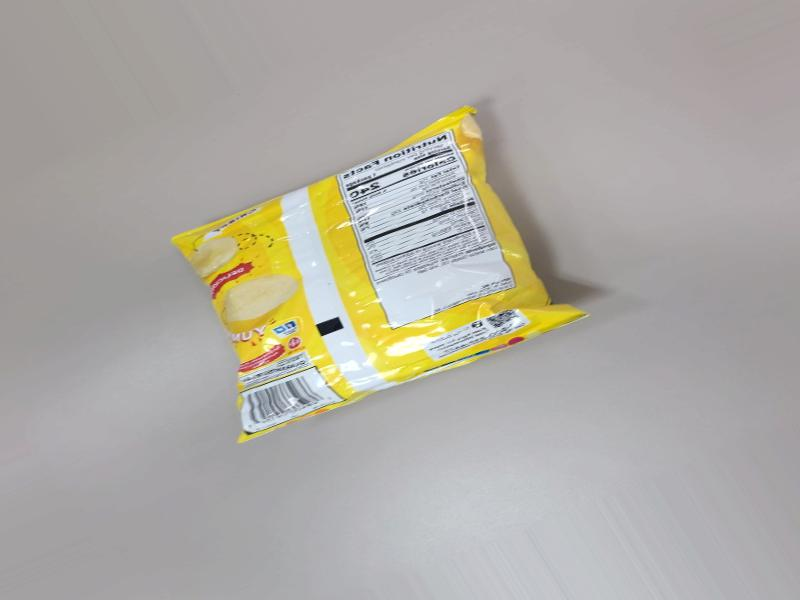lays: (183, 101, 575, 435)
